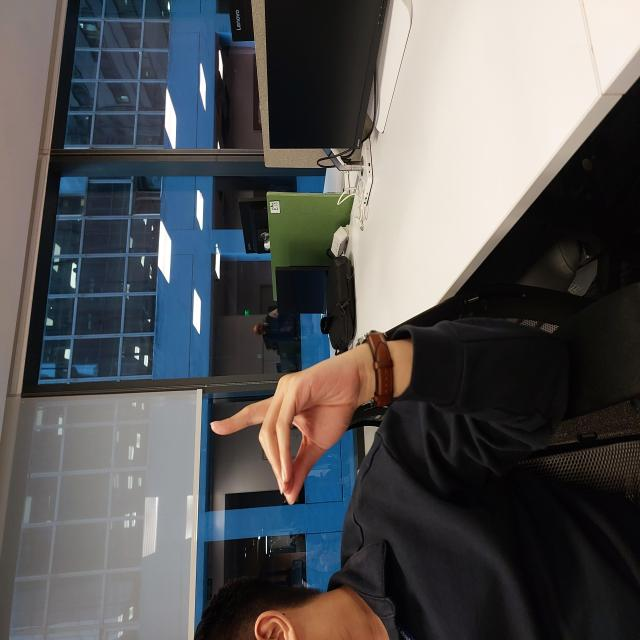D: (136, 209, 284, 359)
